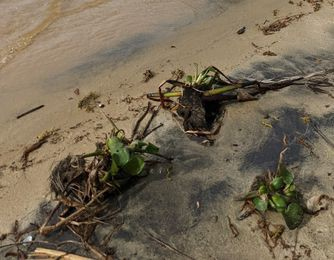water_hyacinth: (49, 58, 313, 241)
